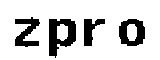o: (115, 15, 149, 49)
p: (46, 17, 78, 60)
r: (80, 16, 108, 47)
z: (8, 17, 42, 50)
